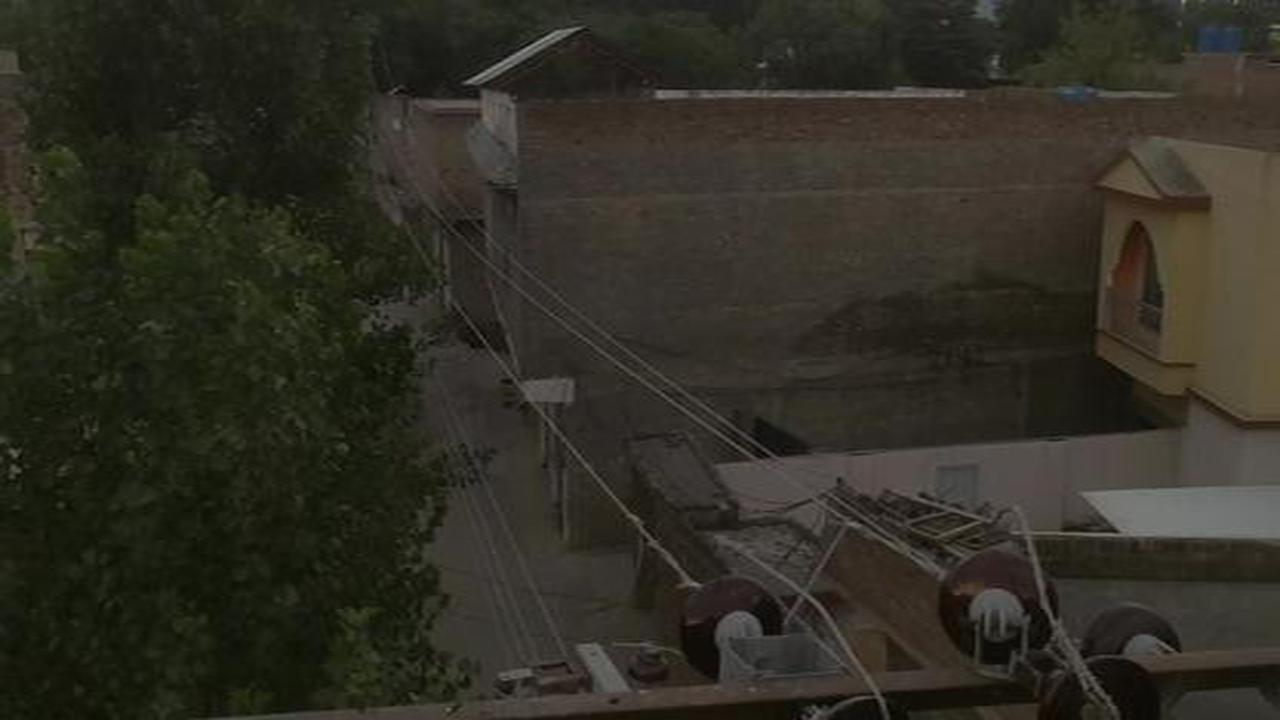insulator_disc: (933, 553, 1064, 661), (676, 577, 787, 675), (1081, 601, 1183, 661), (1046, 666, 1164, 708)
